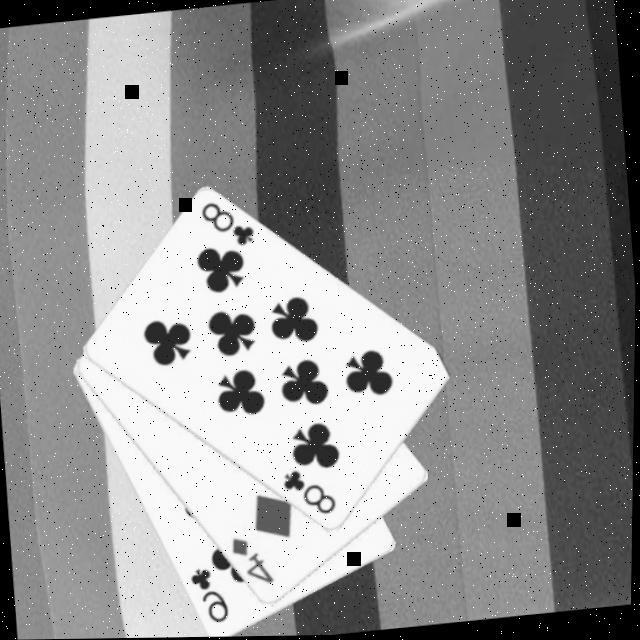4D: (226, 529, 279, 590)
8C: (278, 461, 341, 521), (196, 193, 259, 252)
9C: (185, 560, 233, 628)
